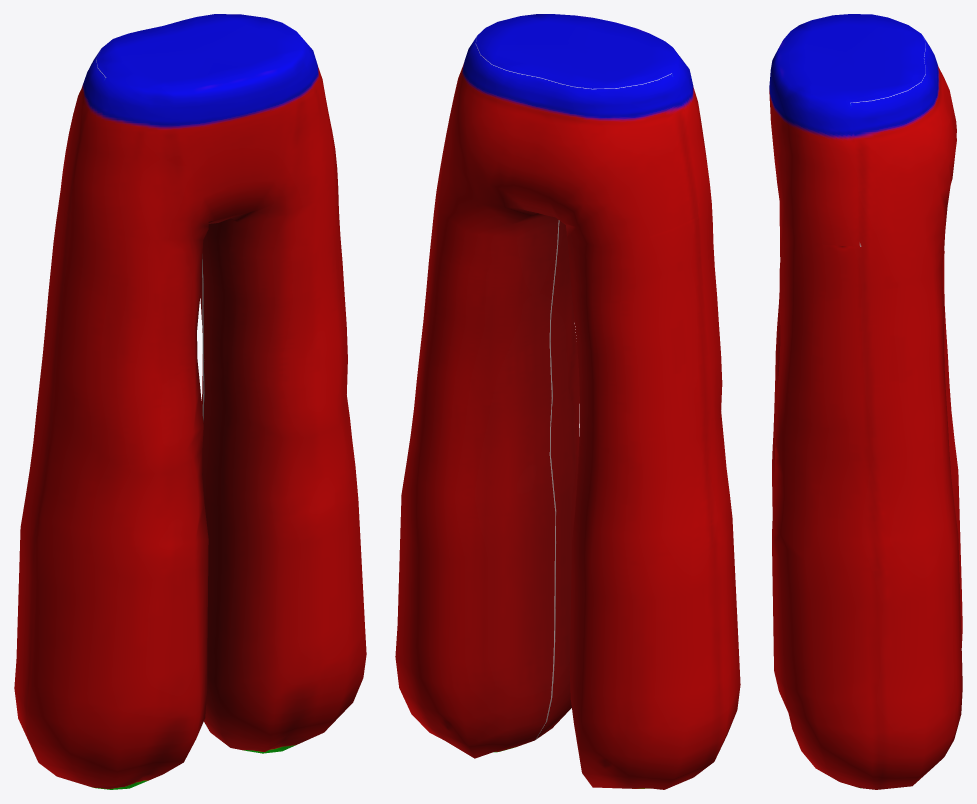
The model's file is Bottom_BaggyPantsLong.obj.
3 renders of one model, left to right at view 1: azimuth 30°, elevation 25°; view 2: azimuth 150°, elevation 25°; view 3: azimuth 270°, elevation 25°, orthographic. The views are drawn at different scales.
Parts seen in each view (by area): view 1: Bottom_BaggyPantsLong_0; view 2: Bottom_BaggyPantsLong_0; view 3: Bottom_BaggyPantsLong_0.
Boxes of the visible parts, bbox=[...] form: Bottom_BaggyPantsLong_0: bbox=[14, 14, 366, 789]; Bottom_BaggyPantsLong_0: bbox=[395, 14, 740, 789]; Bottom_BaggyPantsLong_0: bbox=[769, 14, 962, 789].
Size of the model in its own units: 0.467 by 0.9799 by 0.2515.
Materials: 1 (1 with a texture image).
